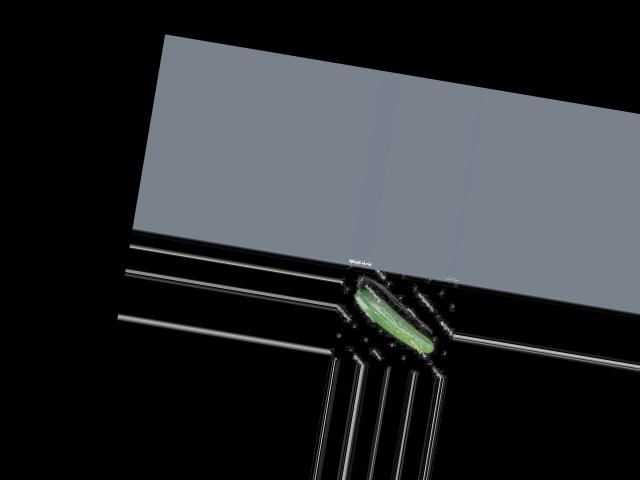cucumber: (348, 286, 442, 354)
